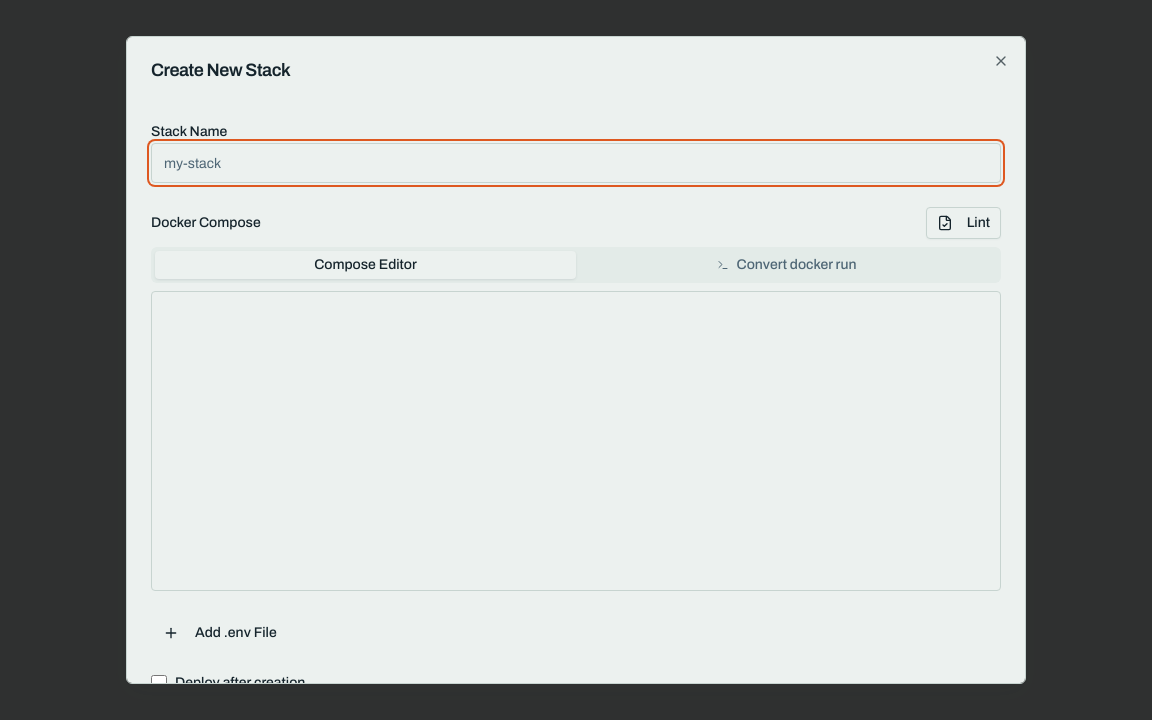
Scenario: CreateStackDialog › shows a character validation error for disallowed characters
Type "my stack!" into the field labelled "Stack Name".
click(576, 163); type("my stack!")  # box [151,143,1001,183]
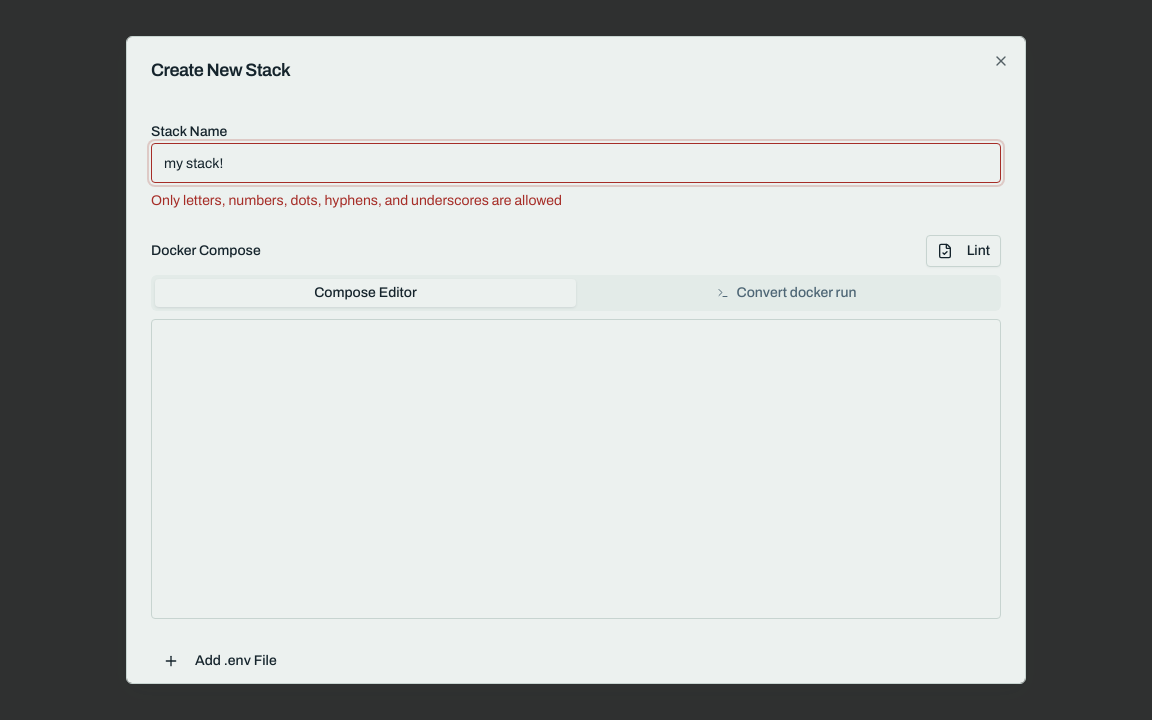
expect the text with id "stack-name-error" reads "Only letters, numbers, dots, hyphens, and underscores are allowed": met, box [151,193,562,208]
